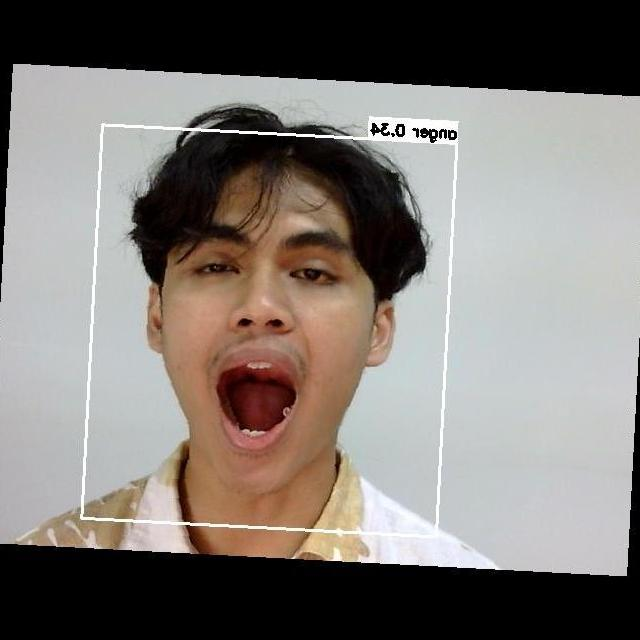Surprised: (148, 193, 379, 467)
